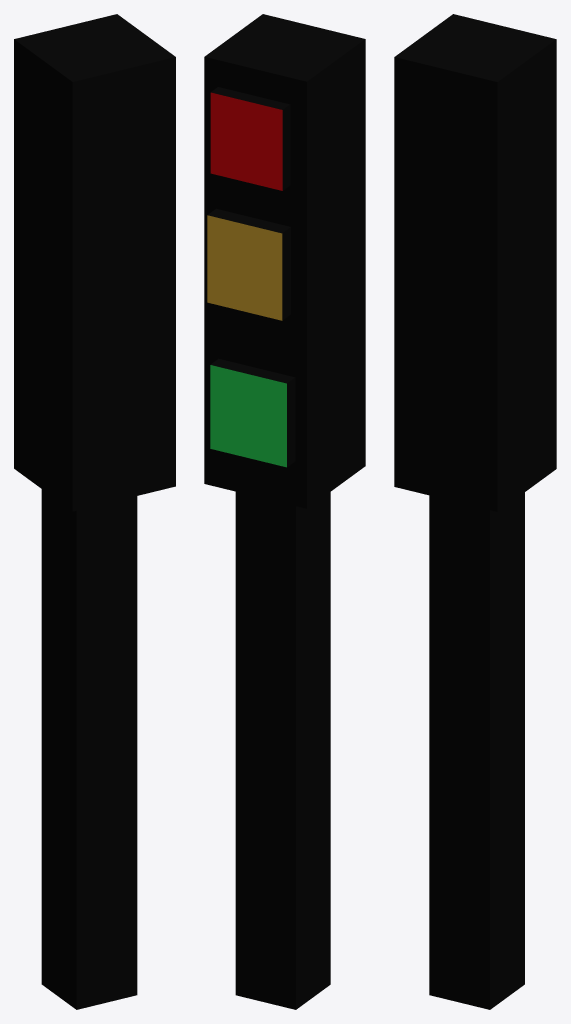
Rendered from Swiatlo.fbx.
The picture shows the model from 3 angles, left to right: view 1: azimuth 30°, elevation 25°; view 2: azimuth 150°, elevation 25°; view 3: azimuth 330°, elevation 25°; orthographic projection.
Visible parts, largest first — view 1: Cube; view 2: Cube; view 3: Cube.
Boxes of the visible parts, left/top/right/bottom form: Cube: left=14, top=14, right=175, bottom=1009; Cube: left=204, top=14, right=365, bottom=1009; Cube: left=394, top=14, right=556, bottom=1009.
Size of the model in its own units: 34.06 by 298 by 38.67.
